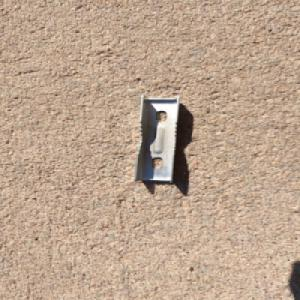ClampPart: (131, 94, 182, 184)
